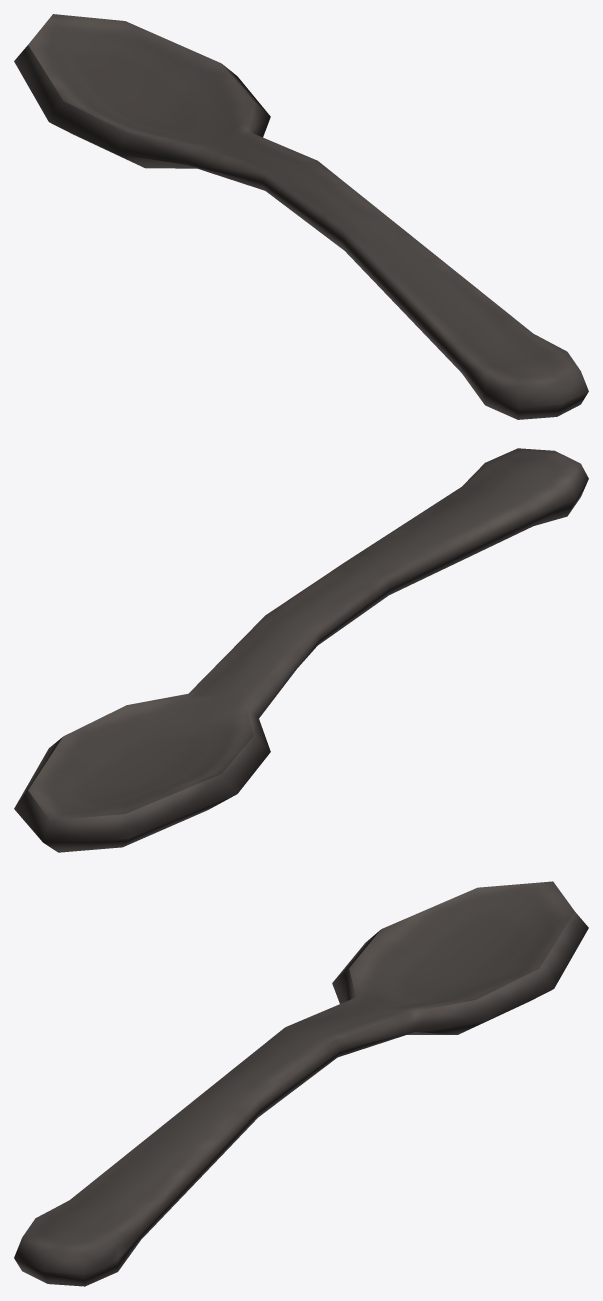
Rendered from Spoon.fbx.
3 views of the same model, one above another, from view 1: azimuth 30°, elevation 25°; view 2: azimuth 150°, elevation 25°; view 3: azimuth 330°, elevation 25° (orthographic).
Visible parts, largest first — view 1: Spoon1; view 2: Spoon1; view 3: Spoon1.
Boxes of the visible parts, x1,y1,x2,y2 form: Spoon1: (14, 14, 588, 419); Spoon1: (14, 448, 588, 852); Spoon1: (14, 881, 588, 1286).
Bounding box in the file's own units: 0.5055 × 0.1914 × 2.39.
